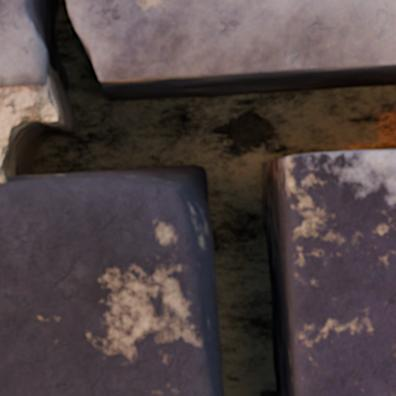brick: (0, 182, 216, 395), (287, 150, 395, 395)
broken_brick: (70, 0, 395, 78), (0, 0, 46, 87)
crack: (0, 0, 395, 395)
